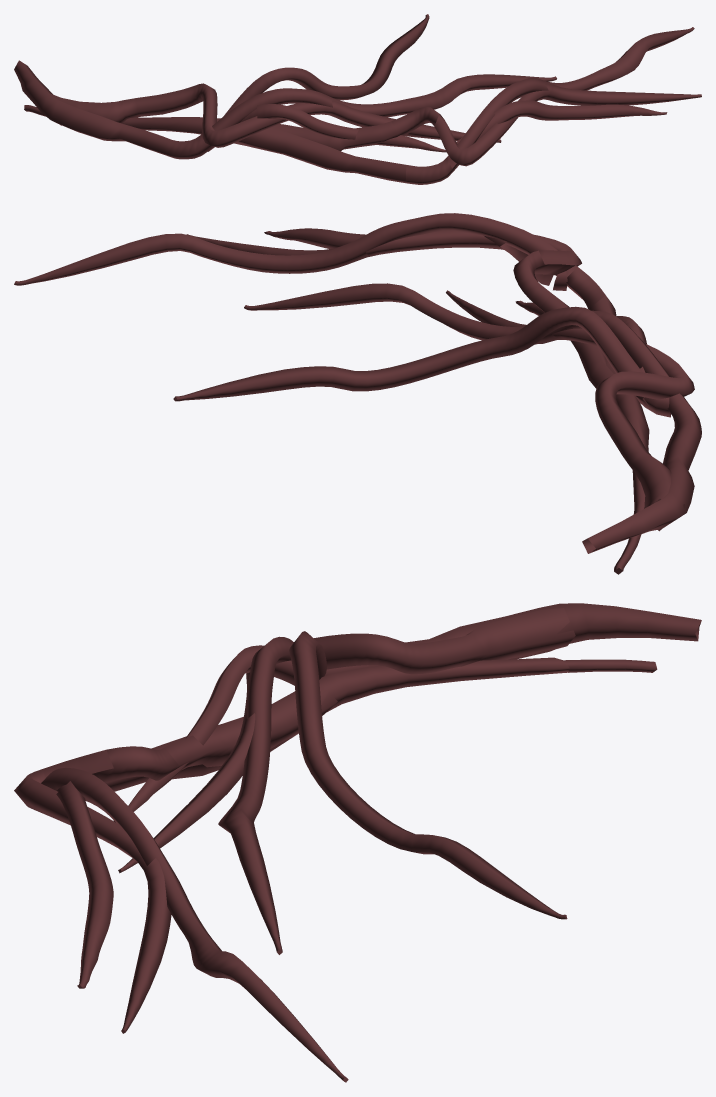
The model's file is 長藤蔓.fbx.
3 views of the same model, one above another, from view 1: azimuth 30°, elevation 25°; view 2: azimuth 150°, elevation 25°; view 3: azimuth 270°, elevation 25° (orthographic). The views are drawn at different scales.
Visible parts, largest first — view 1: 貝茲曲線.002, 貝茲曲線.004; view 2: 貝茲曲線.002, 貝茲曲線.004; view 3: 貝茲曲線.002, 貝茲曲線.004.
Part boxes in pixels (x1,y1,x2,y2): 貝茲曲線.002: [14, 14, 556, 159]; 貝茲曲線.004: [24, 27, 701, 184]; 貝茲曲線.002: [173, 283, 701, 553]; 貝茲曲線.004: [14, 213, 649, 574]; 貝茲曲線.002: [113, 603, 701, 954]; 貝茲曲線.004: [14, 657, 657, 1082].
Bounding box in the file's own units: 1082 × 162 × 705.
1 material, 1 textured.
